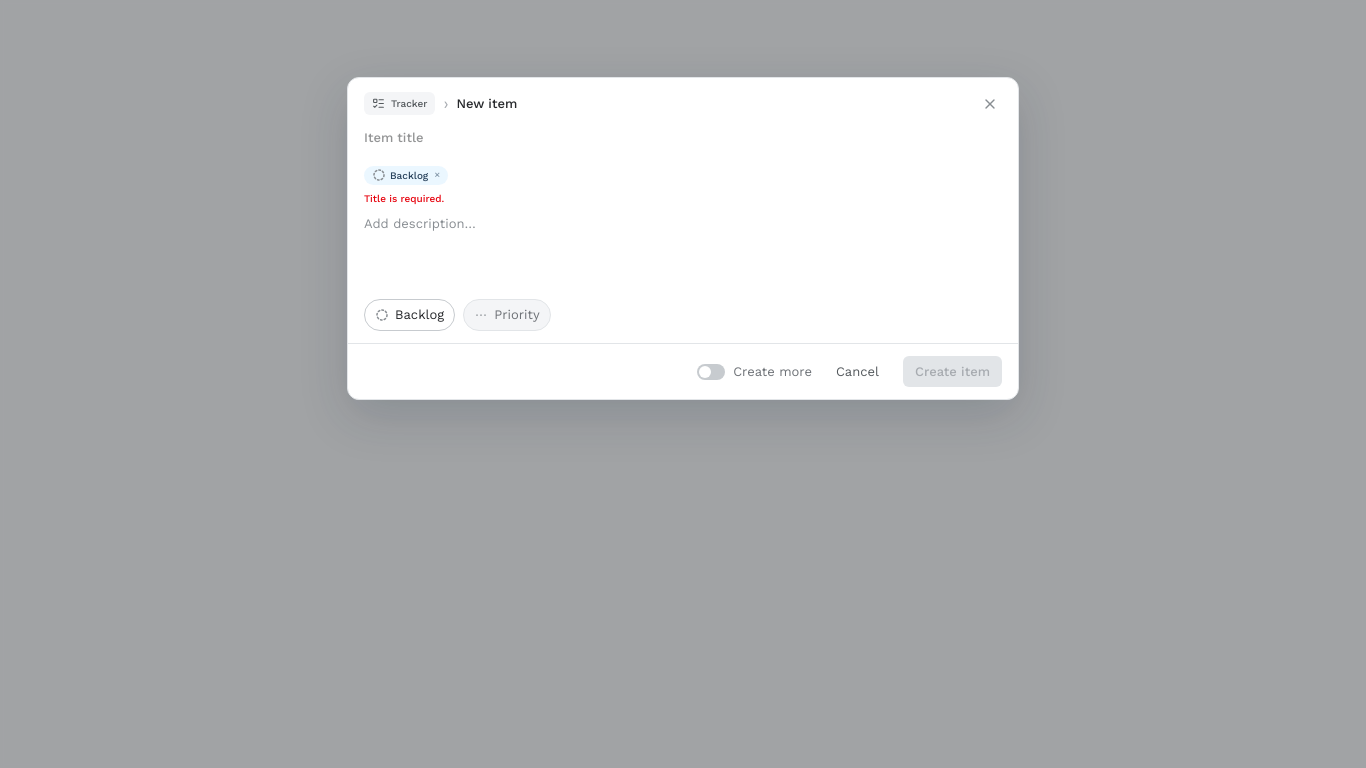
Test: TrackerCreateModal › closes the picker after create more resets the draft
The width and height of the screenshot is (1366, 768).
Click the switch labelled "Create more" at (755, 372), box [697,362,812,381]
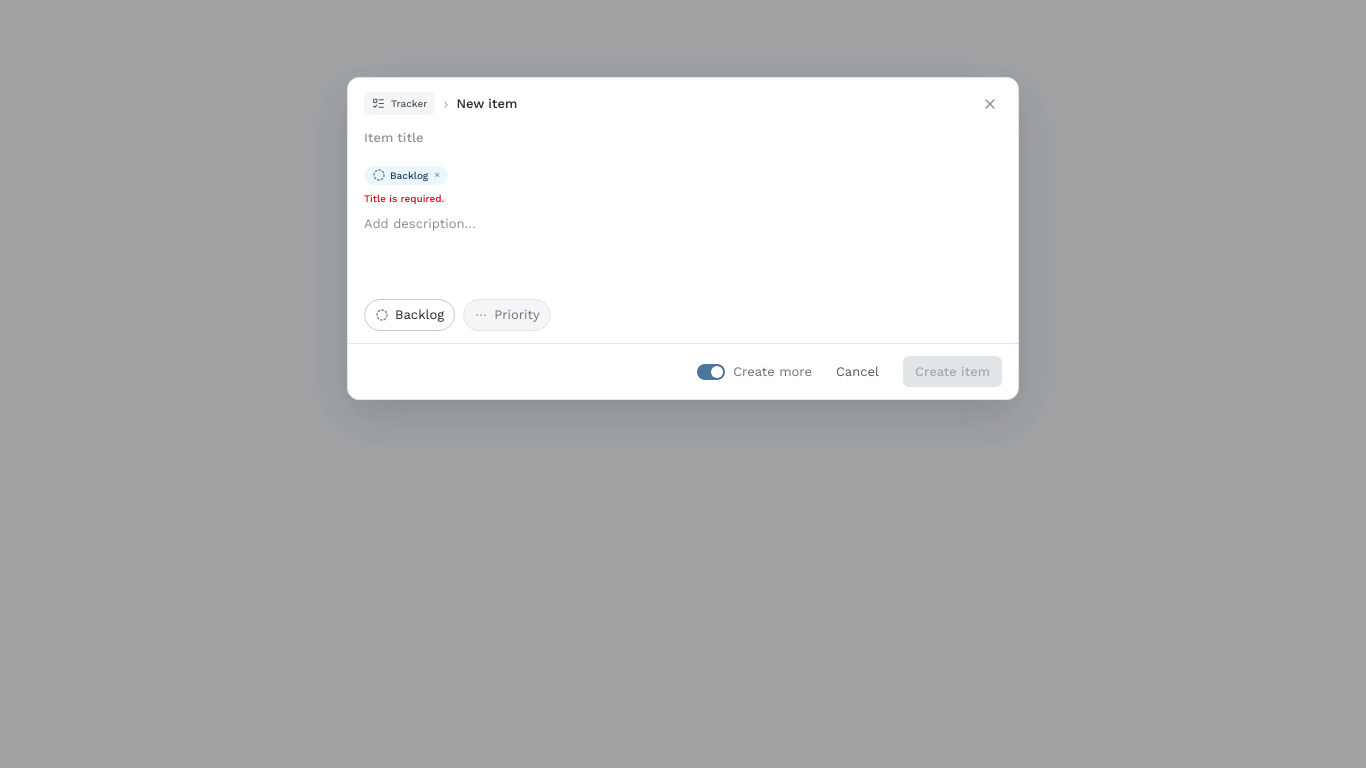
Type "With open picker" into the dropdown labelled "Item title" at (683, 144), box [364,128,1002,160]
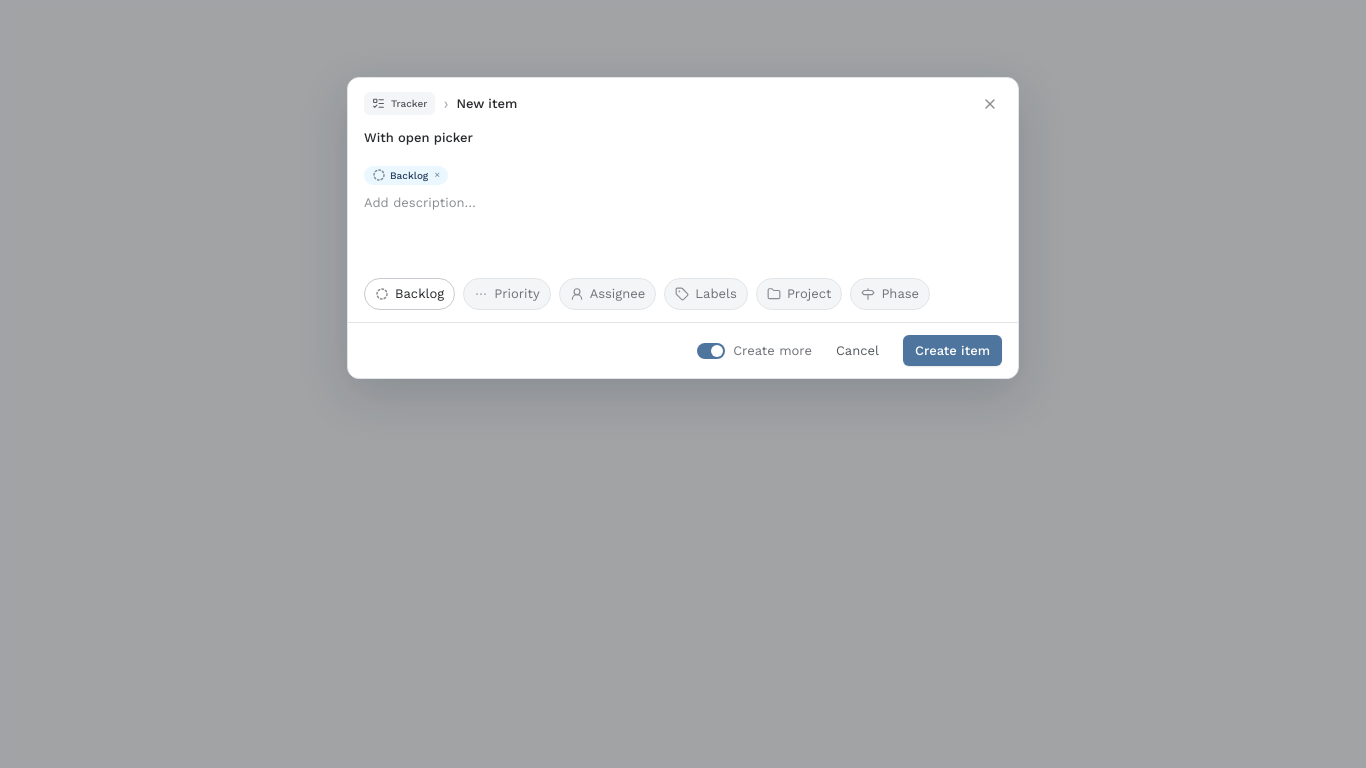
Click the button "Labels" at (706, 294), box [664,278,748,310]
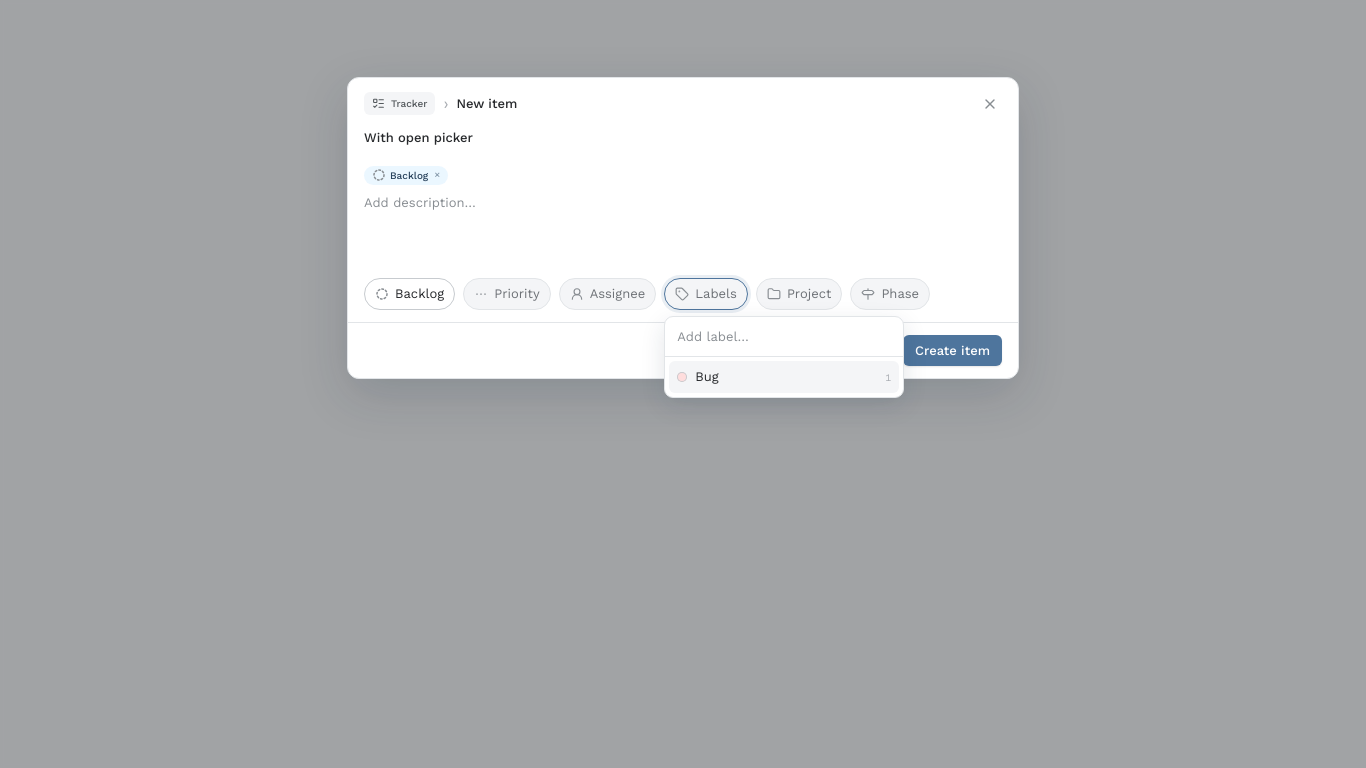
Check: the list is shown, box [665,357,903,397]
Click the button "Create item" at (952, 351), box [903,335,1002,366]
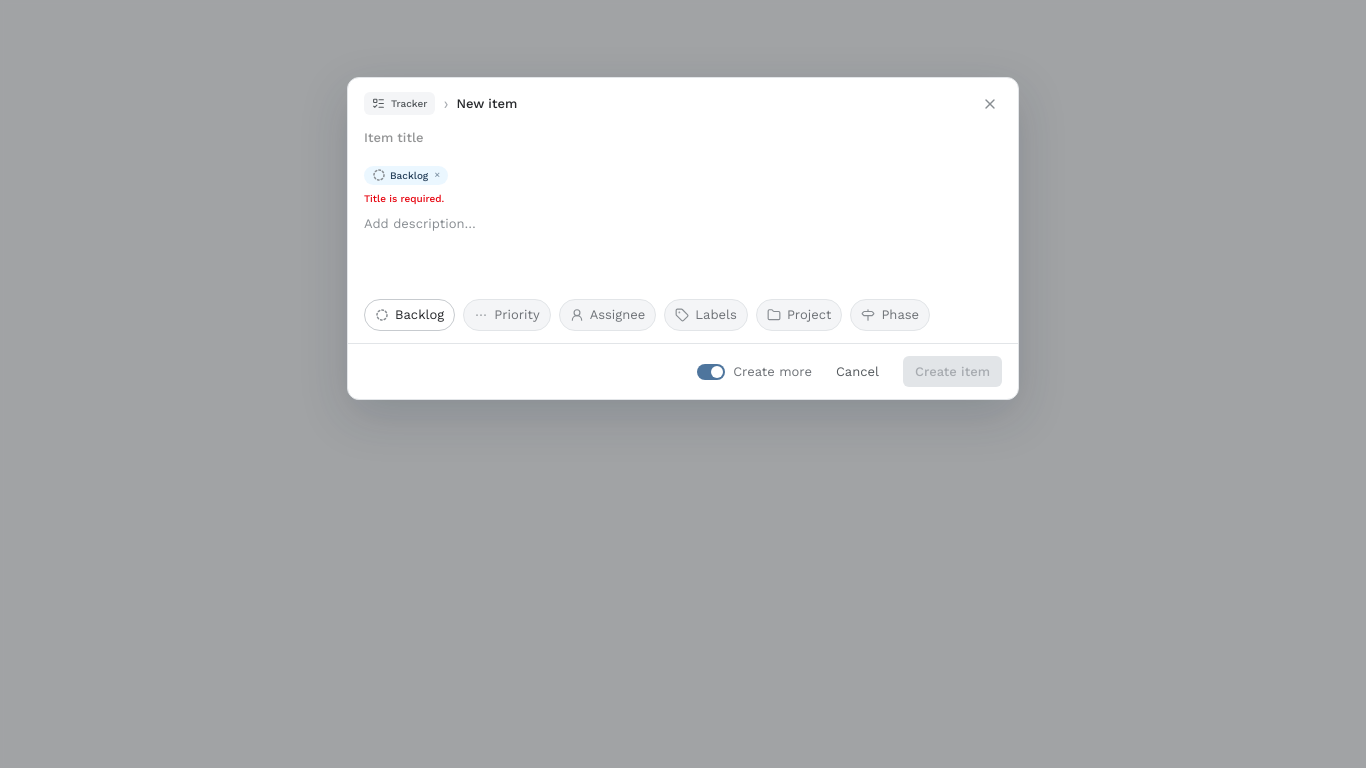
Check: the list is gone
